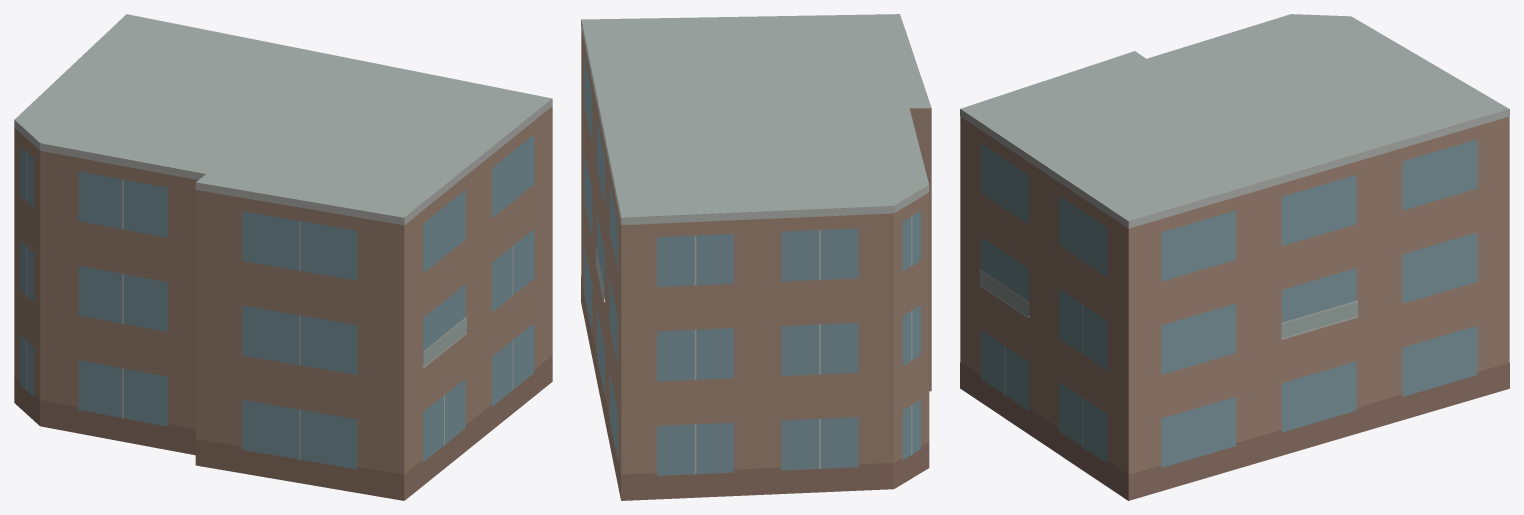
File: survey-upis-32986064.glb
3 renders of one model, left to right at view 1: azimuth 30°, elevation 25°; view 2: azimuth 150°, elevation 25°; view 3: azimuth 270°, elevation 25°, orthographic.
Visible parts, largest first — view 1: survey-upis-32986064.tmp; view 2: survey-upis-32986064.tmp; view 3: survey-upis-32986064.tmp.
Part boxes in pixels (x1,y1,x2,y2): survey-upis-32986064.tmp: [14, 14, 552, 500]; survey-upis-32986064.tmp: [581, 14, 931, 500]; survey-upis-32986064.tmp: [960, 14, 1509, 500].
Bounding box in the file's own units: 14.56 × 9.15 × 16.31.
